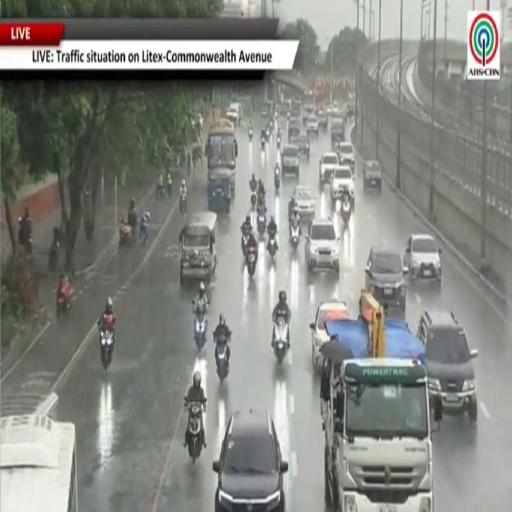bus: (0, 415, 77, 511), (206, 118, 238, 171)
car: (213, 411, 288, 511), (417, 311, 477, 422), (310, 300, 349, 372), (366, 247, 408, 311), (404, 234, 441, 283), (306, 219, 339, 271), (330, 166, 354, 205), (292, 185, 315, 221), (319, 152, 339, 185), (281, 144, 299, 177), (363, 160, 381, 190), (337, 142, 354, 170), (297, 134, 309, 159), (227, 103, 242, 123), (288, 122, 300, 143), (260, 100, 274, 118), (306, 115, 318, 134), (303, 104, 315, 122), (318, 110, 327, 129), (326, 104, 333, 116)
jeepney: (180, 212, 217, 283), (206, 119, 238, 196), (208, 170, 232, 213), (331, 118, 345, 151)
motorcycle: (185, 399, 203, 463), (273, 317, 288, 364), (56, 281, 74, 315), (216, 338, 229, 385), (19, 217, 33, 255), (101, 329, 113, 371), (194, 312, 206, 351), (119, 220, 134, 248), (48, 240, 59, 271), (246, 247, 257, 276), (340, 201, 352, 226), (268, 232, 277, 259), (291, 226, 300, 250), (140, 222, 148, 245), (242, 233, 249, 257), (258, 214, 266, 235), (274, 165, 280, 191), (157, 184, 167, 198), (257, 192, 265, 209), (180, 196, 187, 215), (251, 190, 256, 207), (261, 137, 266, 150), (277, 136, 281, 150), (249, 128, 253, 141), (266, 128, 270, 141)
truck: (321, 292, 433, 511), (206, 118, 238, 196)
